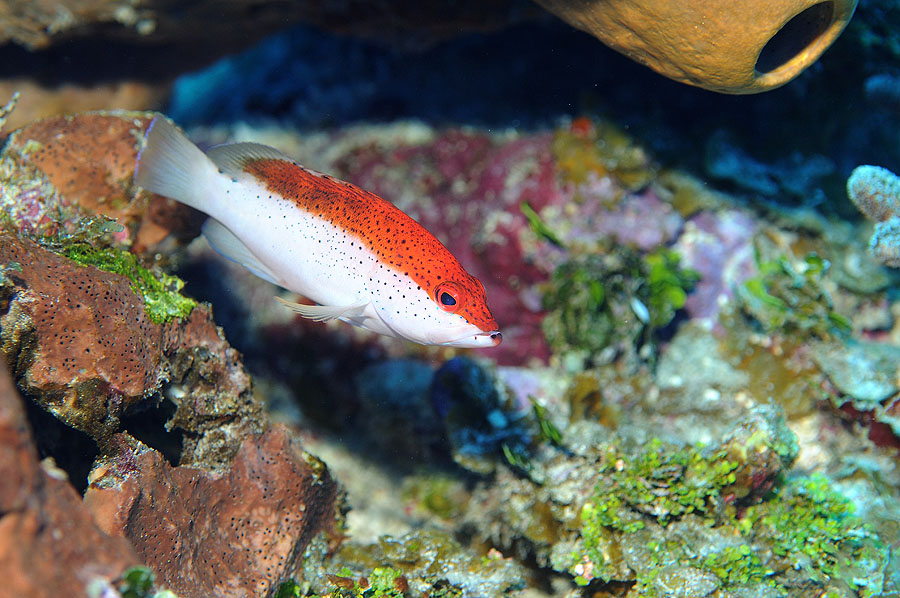Cephalopholis_fulvaw: (122, 100, 536, 365)
